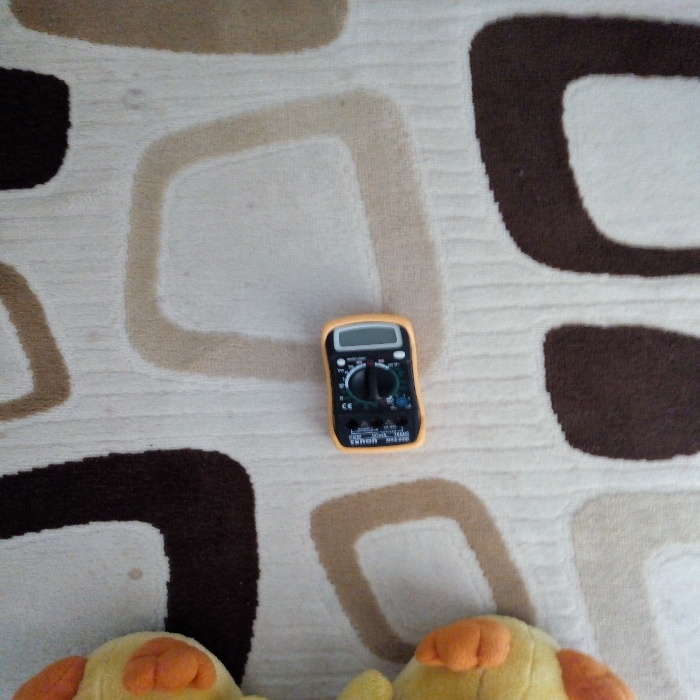multimetre: (315, 305, 427, 458)
